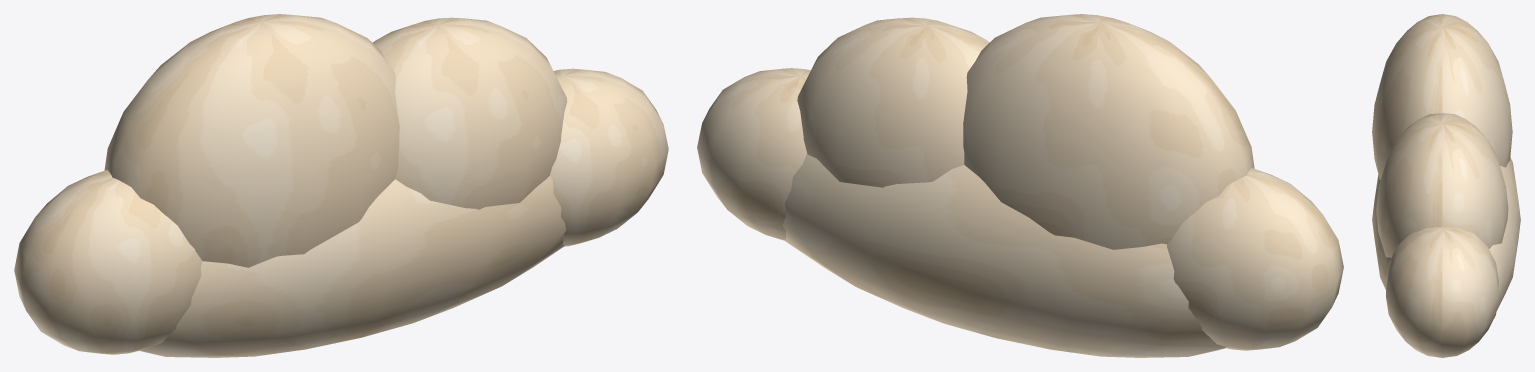
File: prop_cloud_fluffy.obj
The picture shows the model from 3 angles, left to right: view 1: azimuth 30°, elevation 25°; view 2: azimuth 150°, elevation 25°; view 3: azimuth 270°, elevation 25°; orthographic projection. The views are drawn at different scales.
Visible parts, largest first — view 1: cloud_puffs; view 2: cloud_puffs; view 3: cloud_puffs.
Part boxes in pixels (box(x1,y1,x2,y2)): cloud_puffs: box(14, 14, 668, 357); cloud_puffs: box(697, 14, 1343, 357); cloud_puffs: box(1372, 14, 1520, 357).
Size of the model in its own units: 2.62 by 1.3 by 0.72.
1 material, 1 textured.
